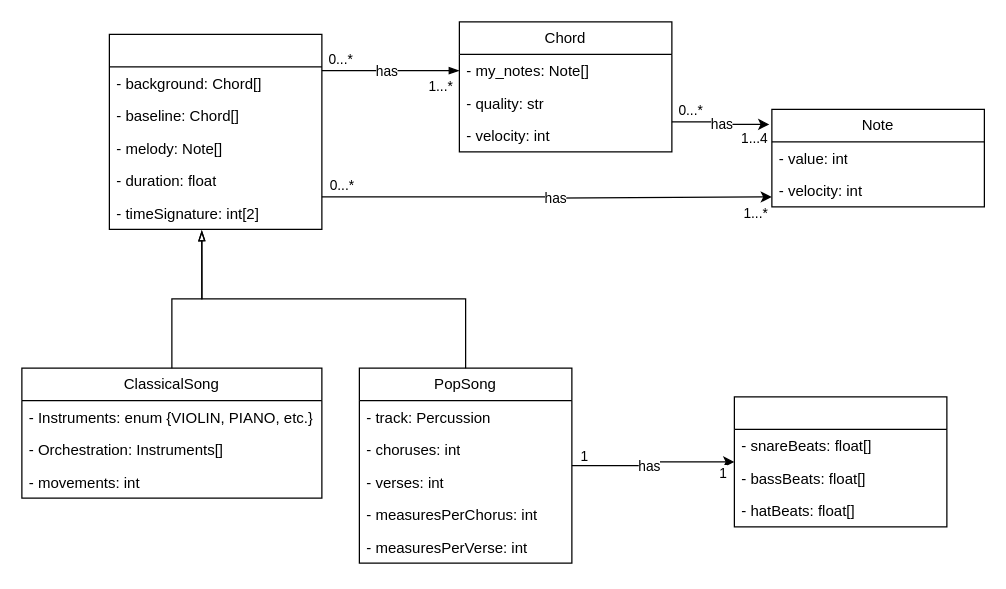
The diagram is 1006 pixels wide and 589 high, and some of its shapes have lost their labels. Each missing label, with the box of its shape:
PercussionTrack: (733, 396, 947, 527)
Song: (108, 33, 322, 229)
